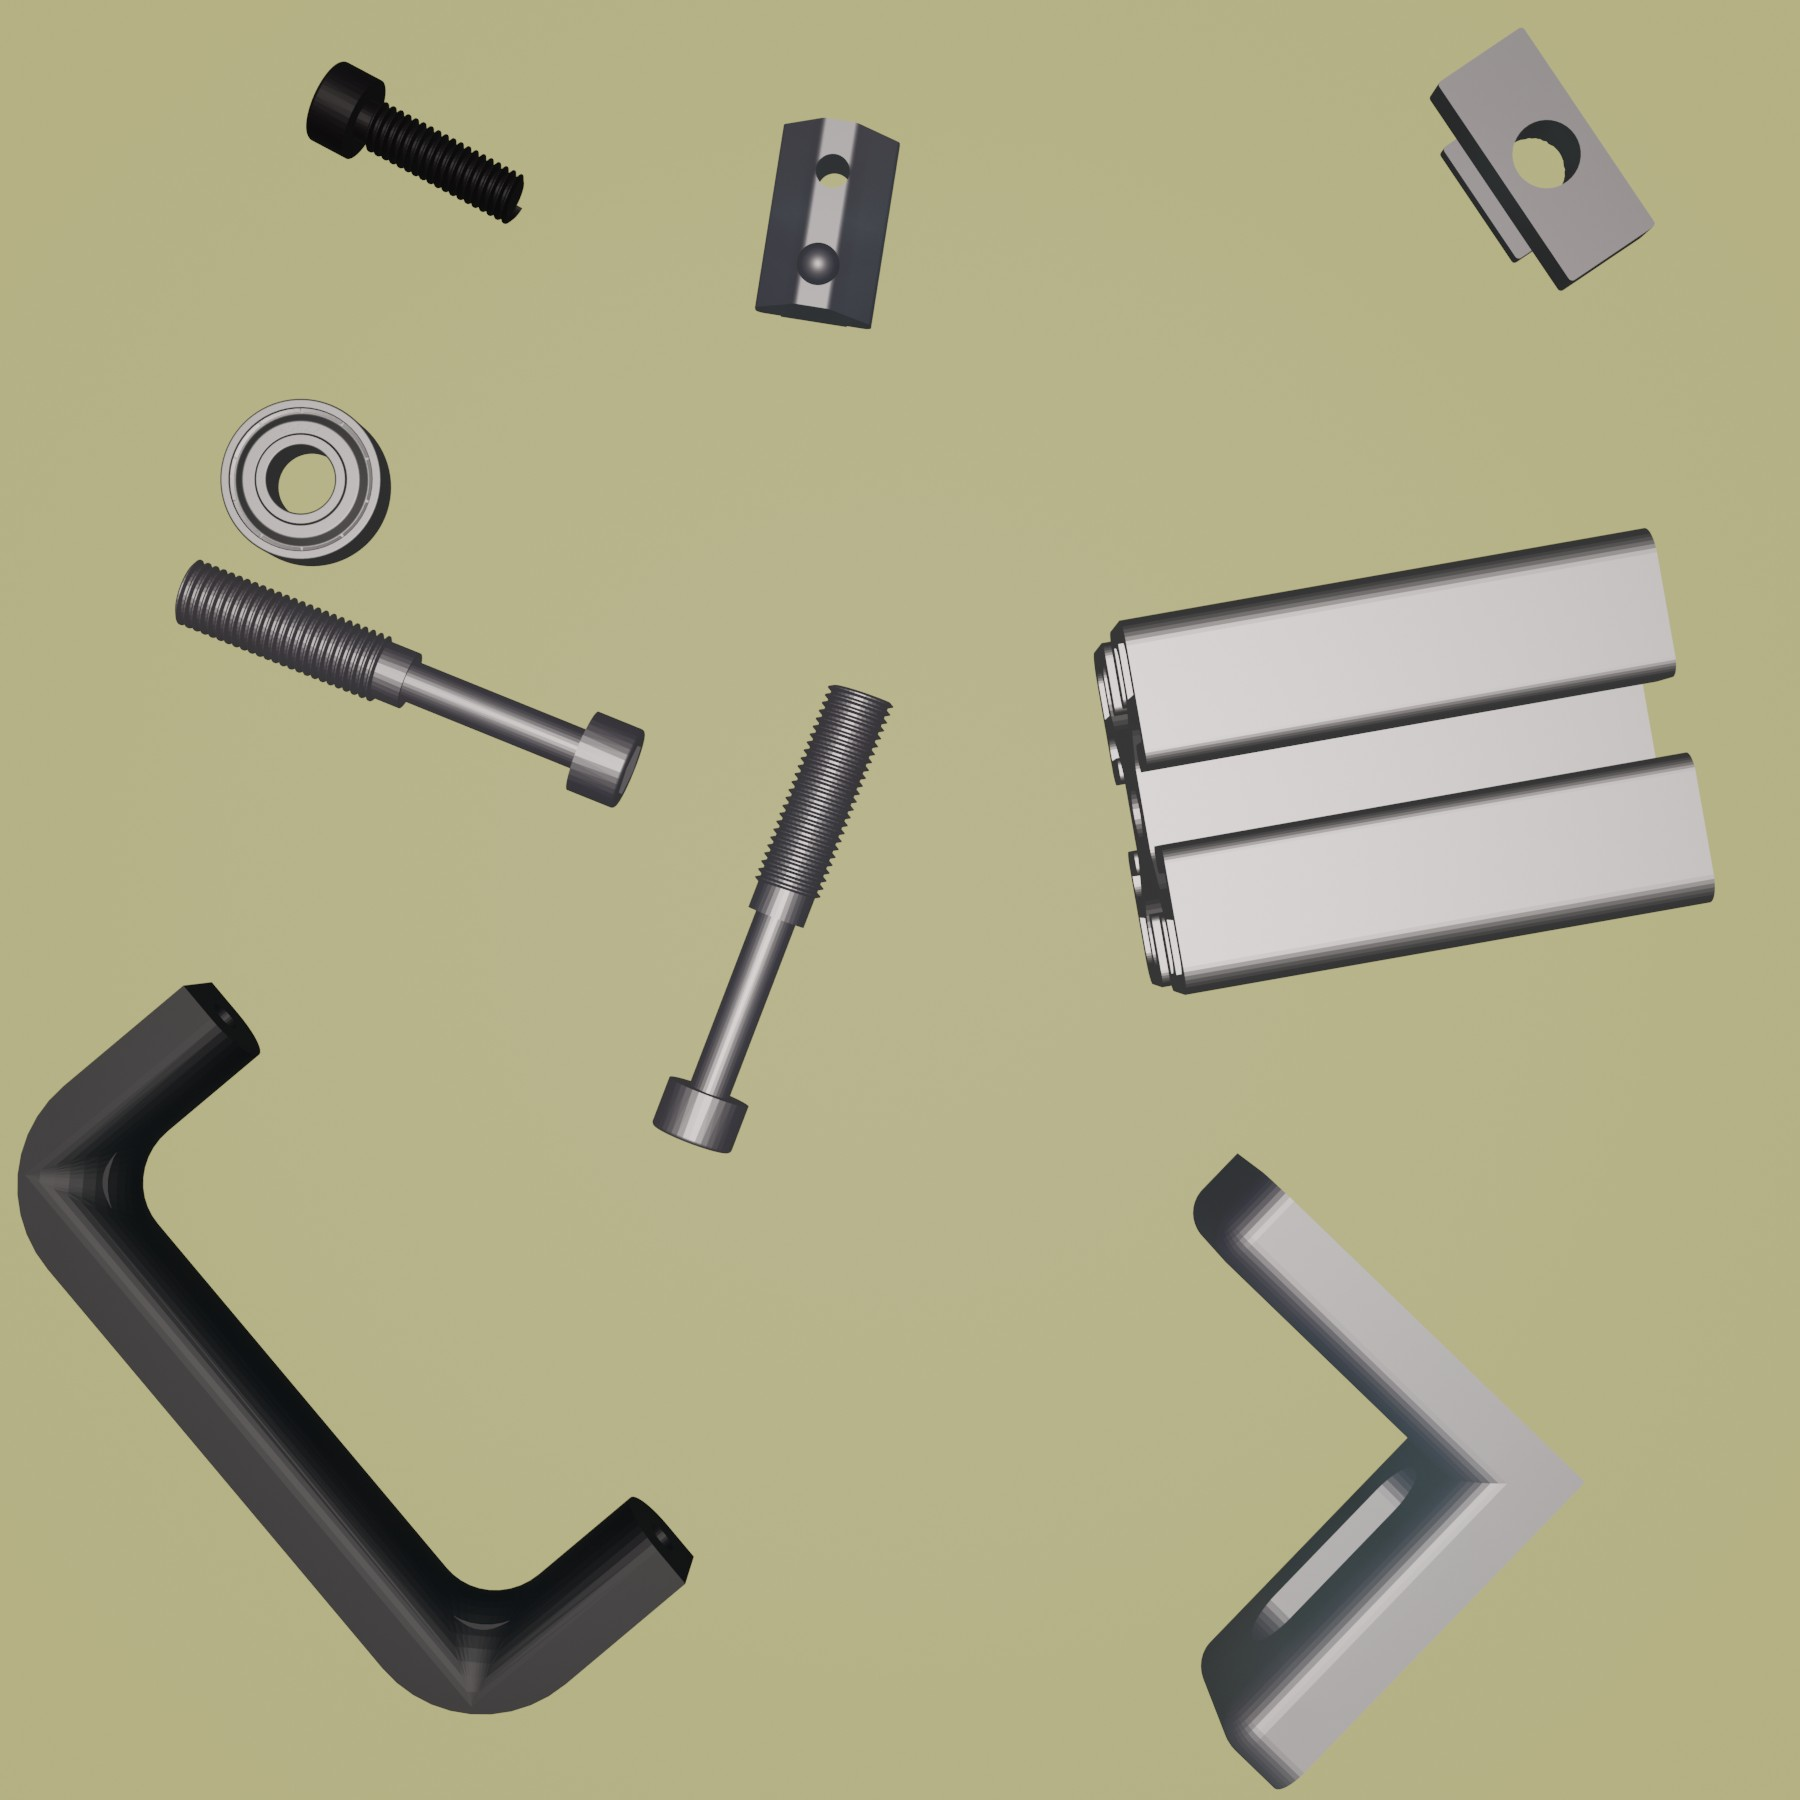Aluminium Extension: (1090, 524, 1719, 999)
Ball Bearing: (219, 396, 394, 570)
Multiwinkel: (1190, 1152, 1591, 1793)
Pull Handle: (12, 977, 696, 1716)
Shoulder Socket Head Cap Screw: (171, 554, 648, 814), (649, 682, 893, 1157)
Socket Head Cap Screw: (302, 58, 527, 227)
T Nut Square: (1427, 23, 1658, 295)
T Spring Nut: (752, 112, 907, 331)
